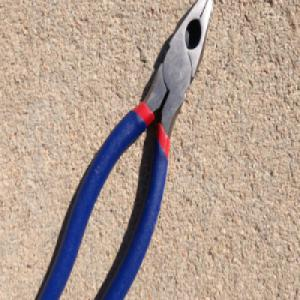Pliers: (34, 0, 211, 300)
